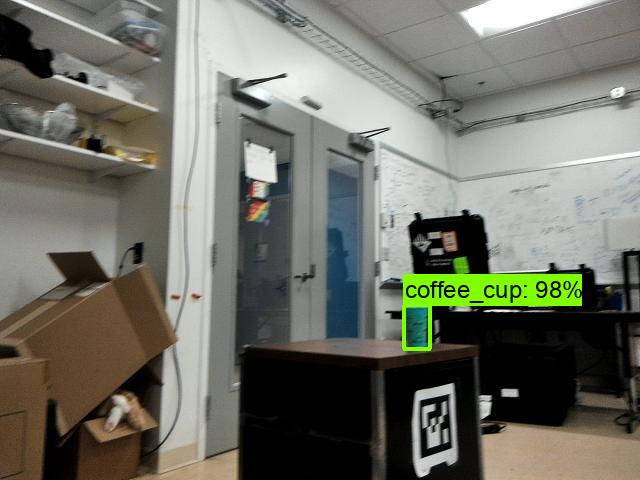coffee_cup: (403, 306, 431, 349)
